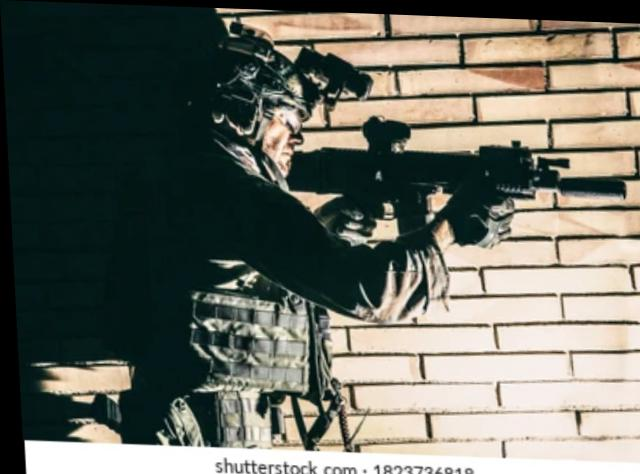other: (118, 20, 416, 441)
